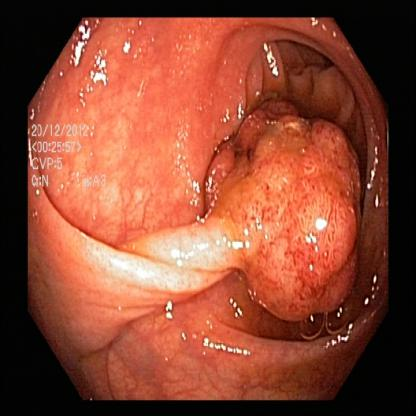Labels: (28, 121, 117, 197)
Polyps: (206, 119, 367, 307)
